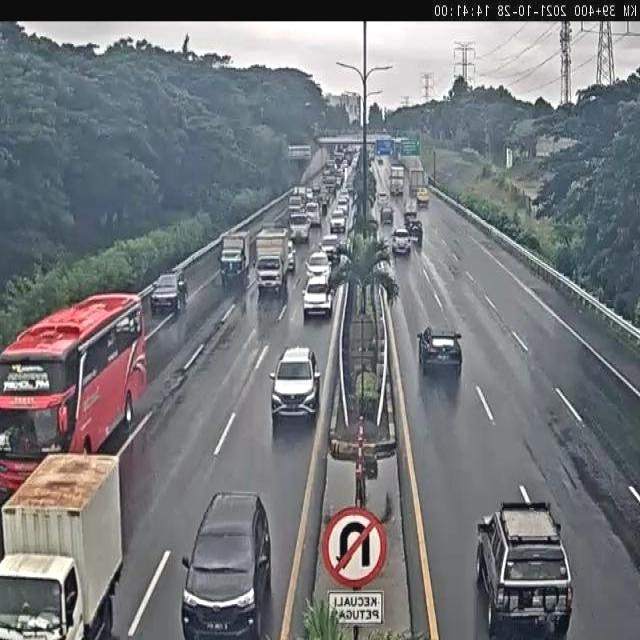Bus: (2, 294, 144, 499)
Car: (475, 501, 572, 639), (181, 491, 271, 638), (270, 344, 322, 424), (416, 324, 462, 374), (151, 272, 189, 316), (302, 272, 335, 318), (305, 249, 331, 280), (391, 227, 412, 255), (334, 250, 352, 276), (374, 257, 391, 278), (336, 190, 349, 210), (318, 189, 330, 210), (370, 158, 379, 178), (382, 235, 392, 253), (378, 191, 388, 207), (378, 157, 383, 165)
Truck: (253, 226, 291, 297), (218, 230, 252, 289), (408, 165, 428, 209), (390, 165, 404, 195), (401, 136, 420, 156), (376, 138, 392, 156)
Van: (342, 196, 358, 238), (320, 233, 342, 261), (374, 153, 391, 182), (305, 202, 321, 228), (330, 209, 346, 233), (343, 144, 358, 167), (289, 193, 304, 216), (381, 204, 394, 224), (346, 173, 356, 196), (312, 181, 322, 198), (327, 160, 337, 177), (367, 145, 376, 162), (333, 146, 342, 161), (357, 144, 367, 156), (306, 188, 314, 201)
